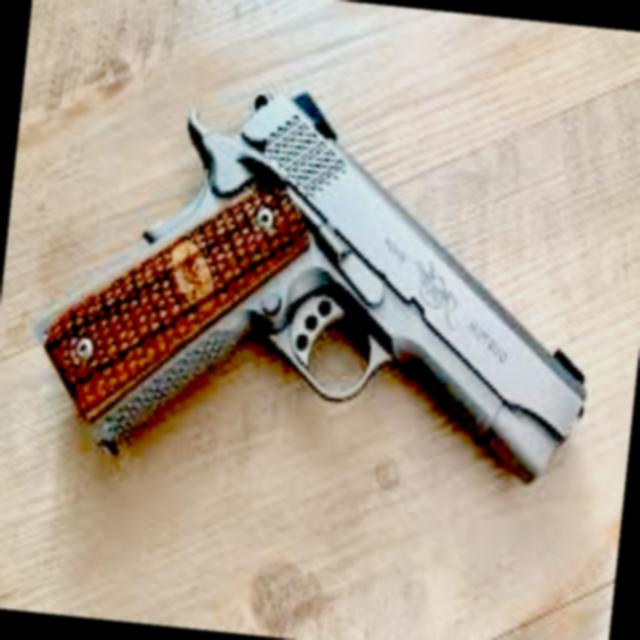semi automatic: (4, 38, 628, 569)
